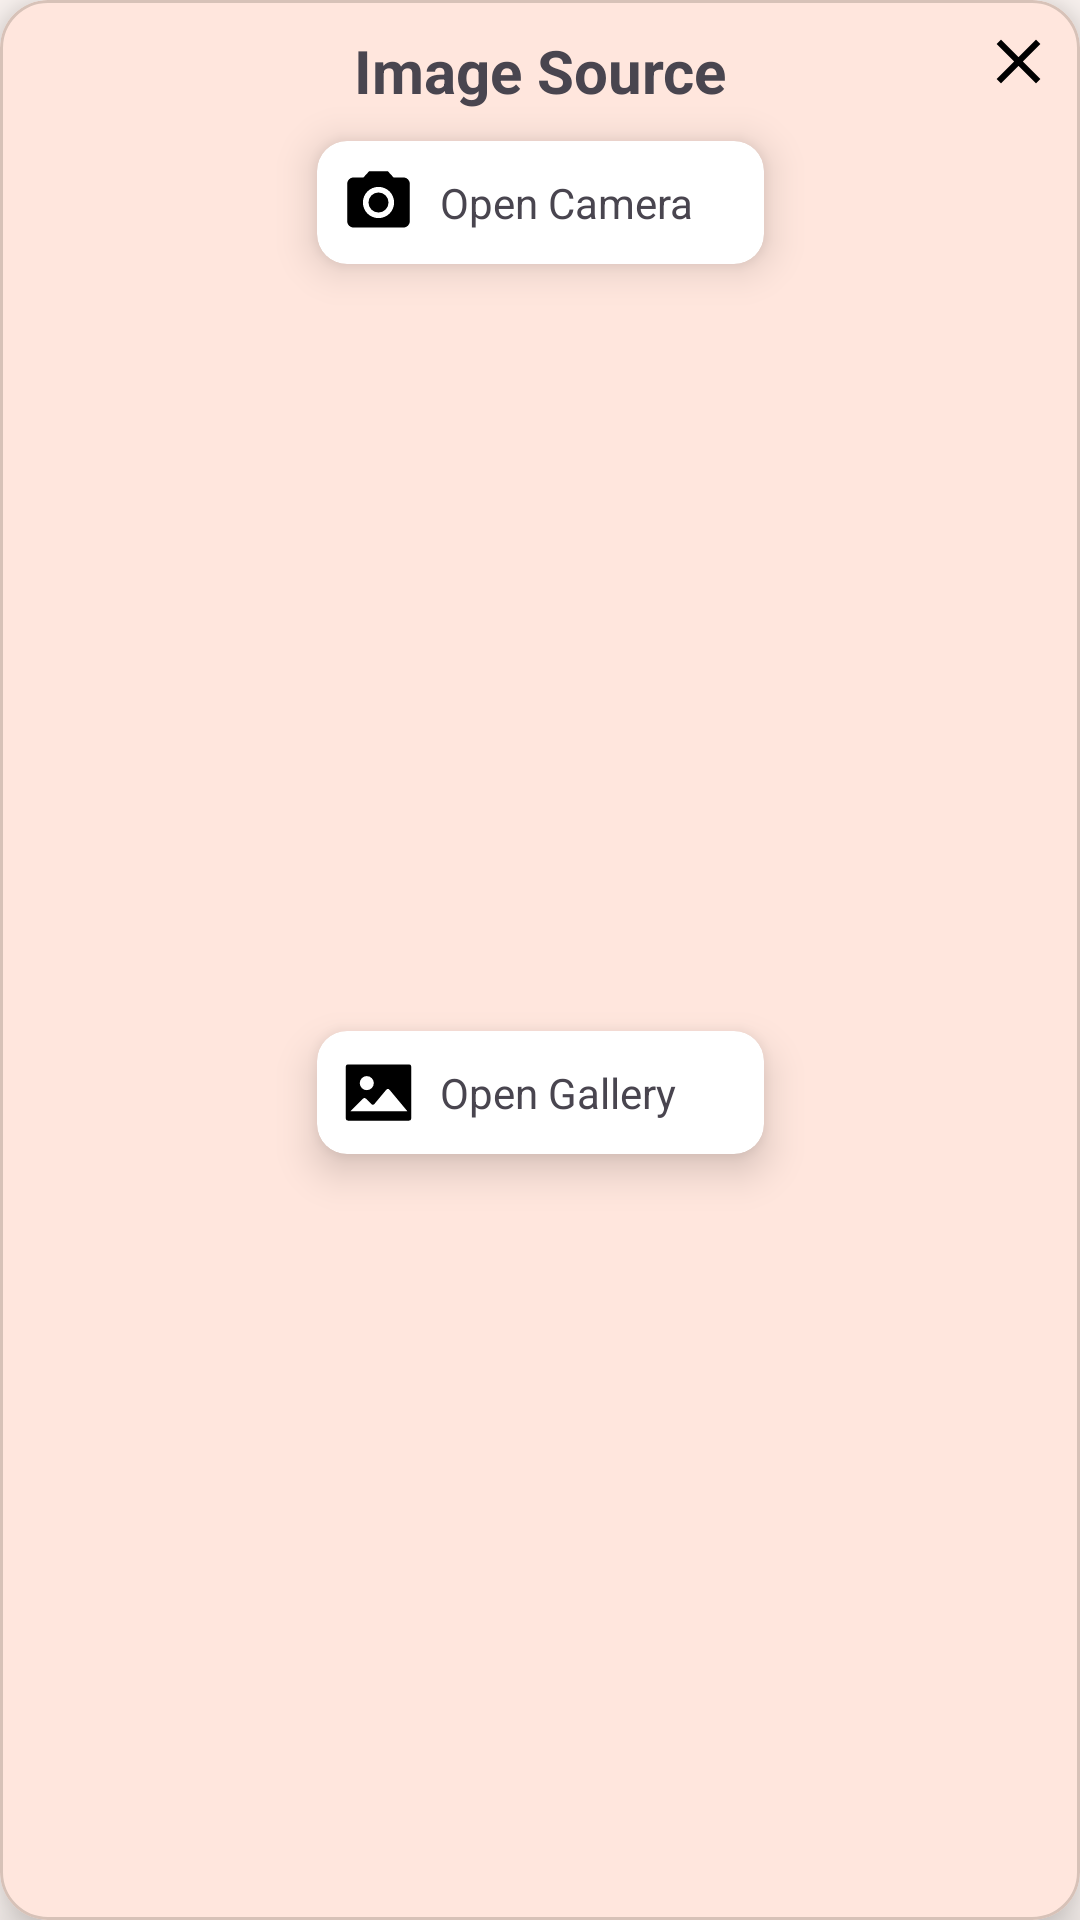

Where icons sit on this 1080 x 1920 app screen, as (x1, y1, x2, y2):
close dialog: (997, 40, 1040, 83)
